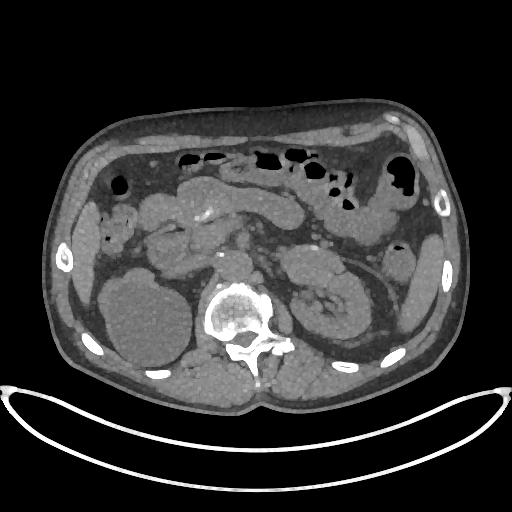Lesion: (275, 244, 349, 292)
